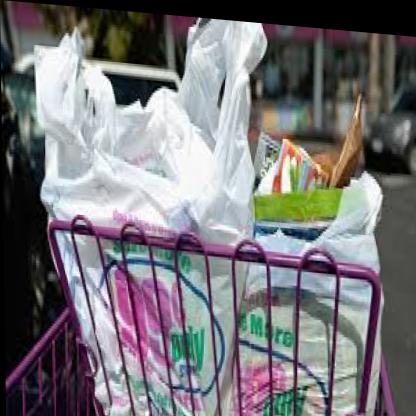Plastic: (17, 26, 405, 416)
